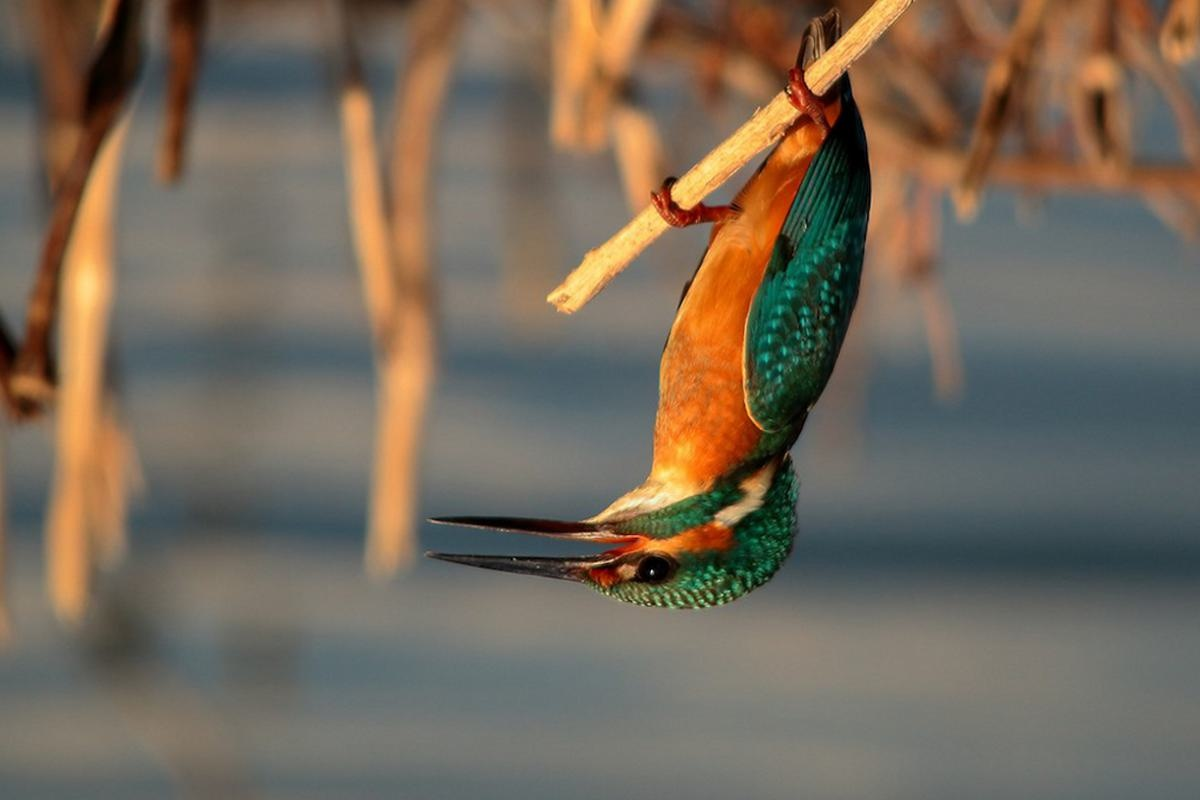kingfisher: (416, 52, 883, 636)
